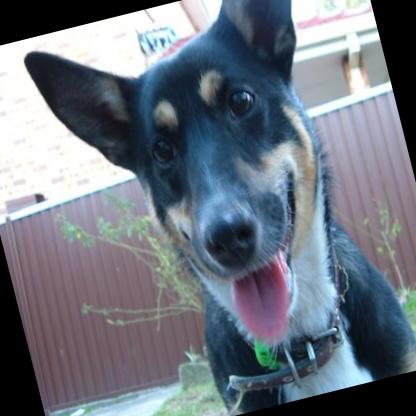kelpie: (17, 0, 416, 416)
